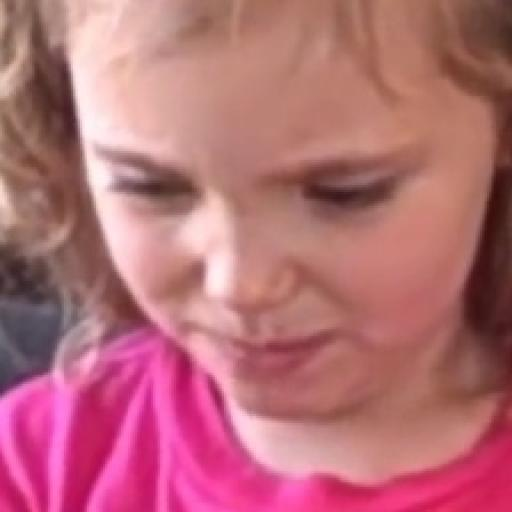Autism: (55, 7, 512, 450)
